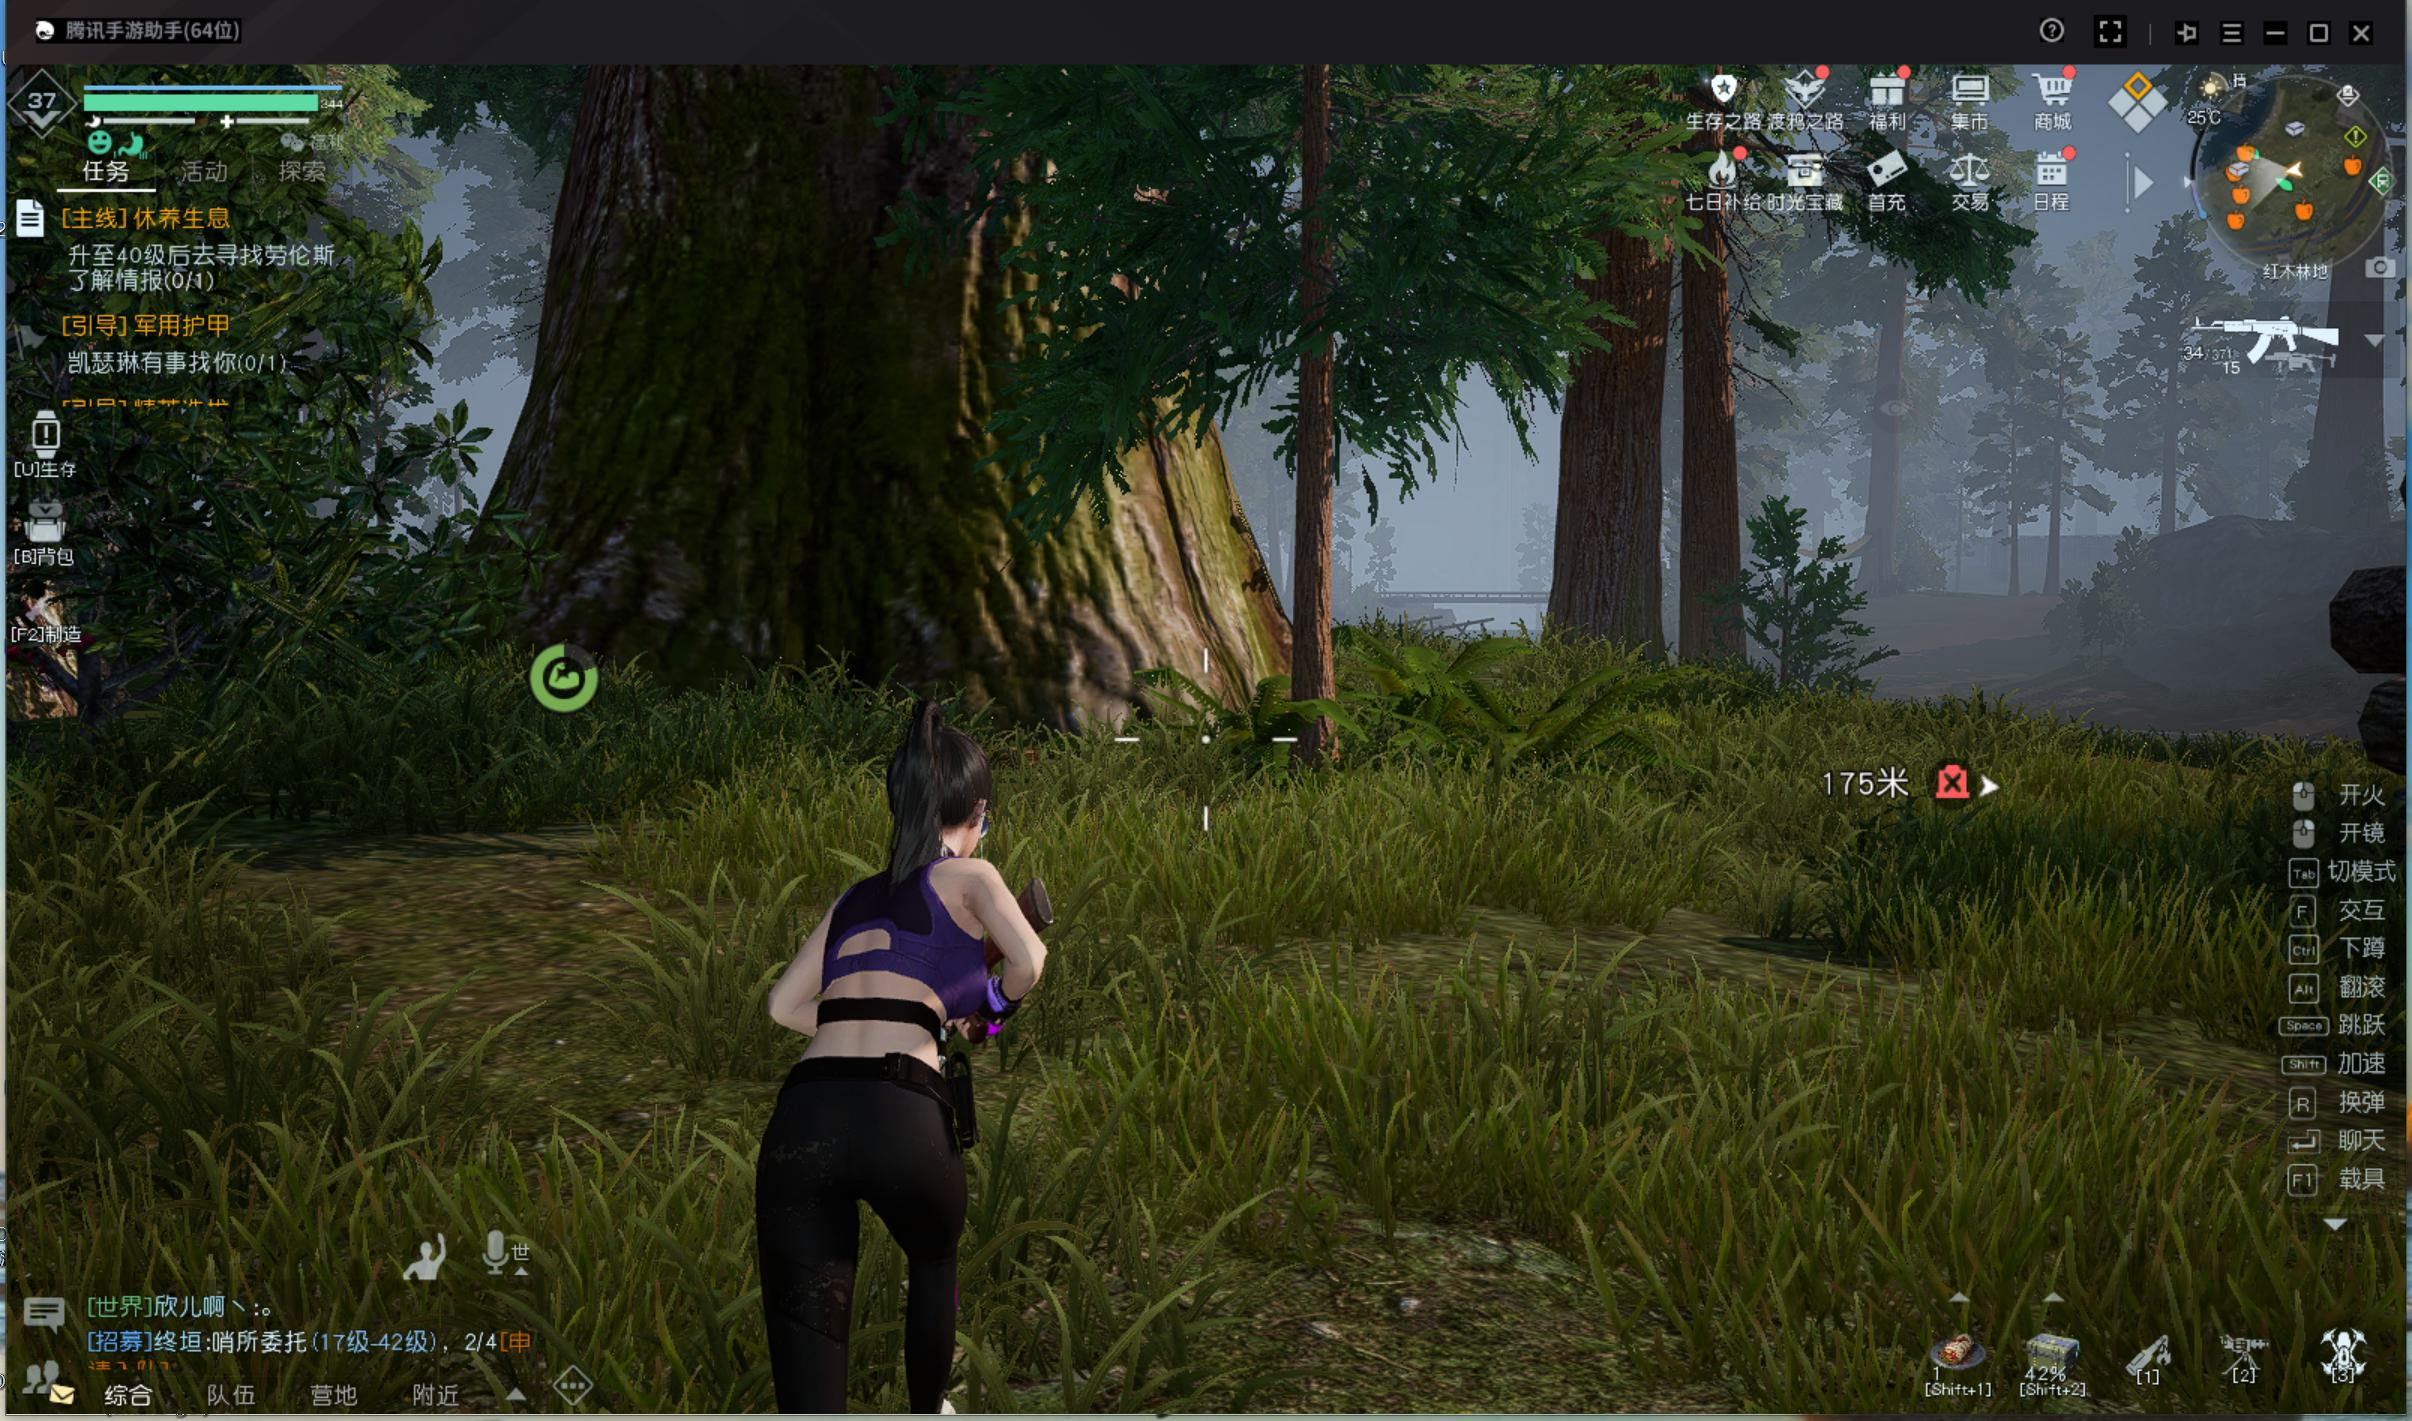tree: (1269, 301, 1363, 800)
